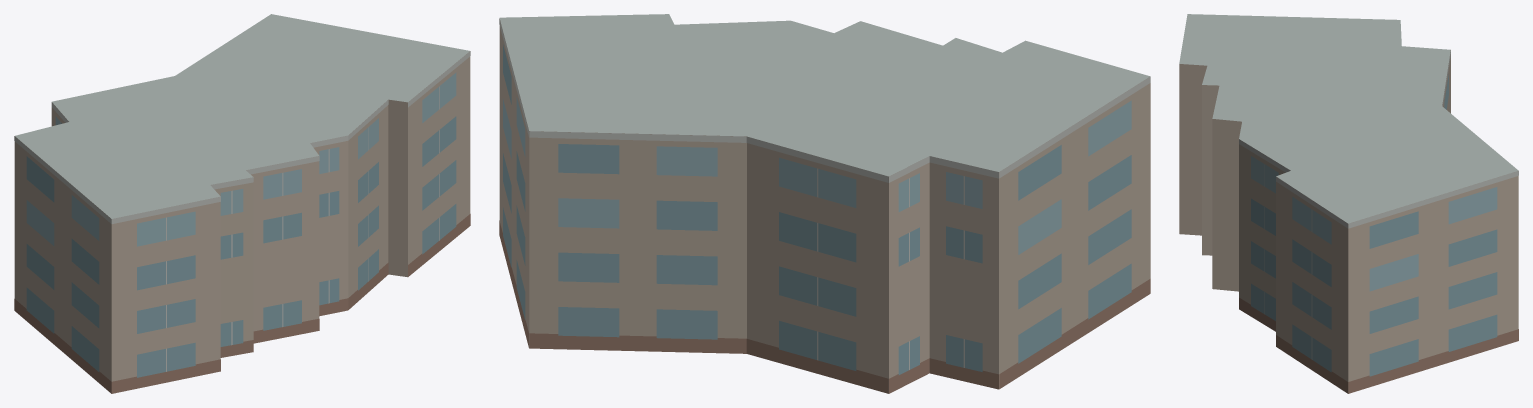
File: survey-upis-32810977.glb
The picture shows the model from 3 angles, left to right: view 1: azimuth 30°, elevation 25°; view 2: azimuth 150°, elevation 25°; view 3: azimuth 270°, elevation 25°; orthographic projection. The views are drawn at different scales.
Visible parts, largest first — view 1: survey-upis-32810977.tmp; view 2: survey-upis-32810977.tmp; view 3: survey-upis-32810977.tmp.
Part boxes in pixels (left/top/right/bottom): survey-upis-32810977.tmp: left=14, top=14, right=470, bottom=393; survey-upis-32810977.tmp: left=499, top=14, right=1150, bottom=393; survey-upis-32810977.tmp: left=1179, top=14, right=1518, bottom=393.
Size of the model in its own units: 21.53 by 8.15 by 14.74.
